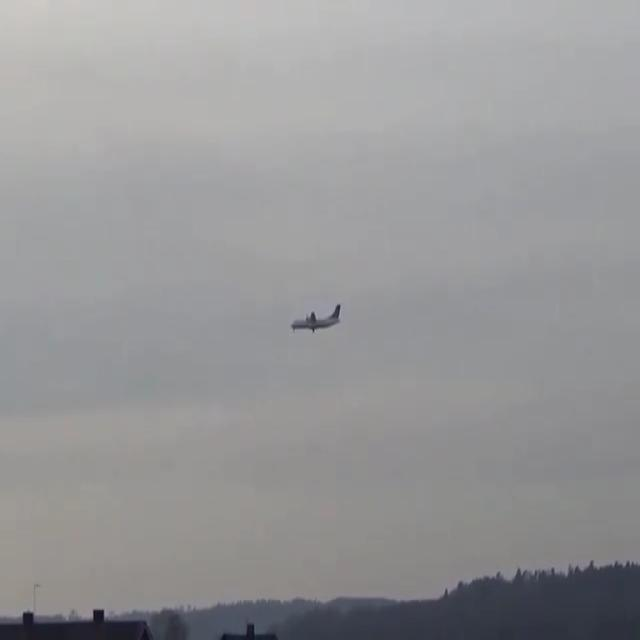AirPlane: (278, 298, 350, 342)
